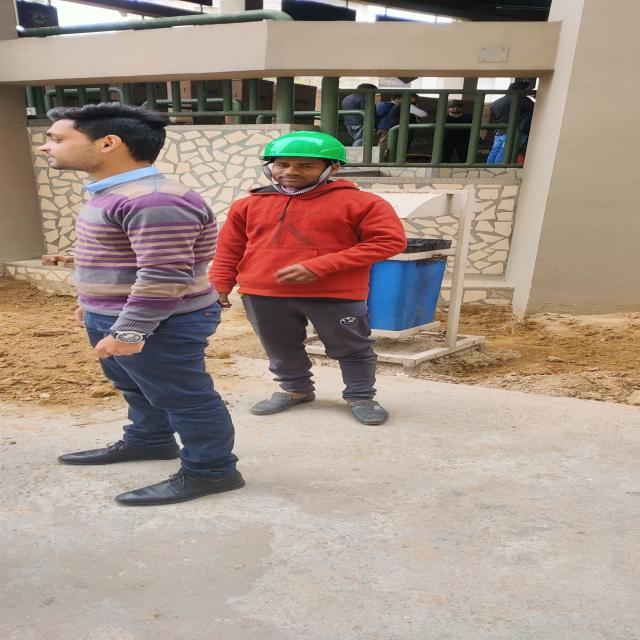no jacket: (217, 127, 405, 428)
unsafe: (34, 106, 244, 506), (488, 81, 536, 165), (342, 83, 377, 146), (442, 102, 474, 164), (380, 94, 428, 123)
